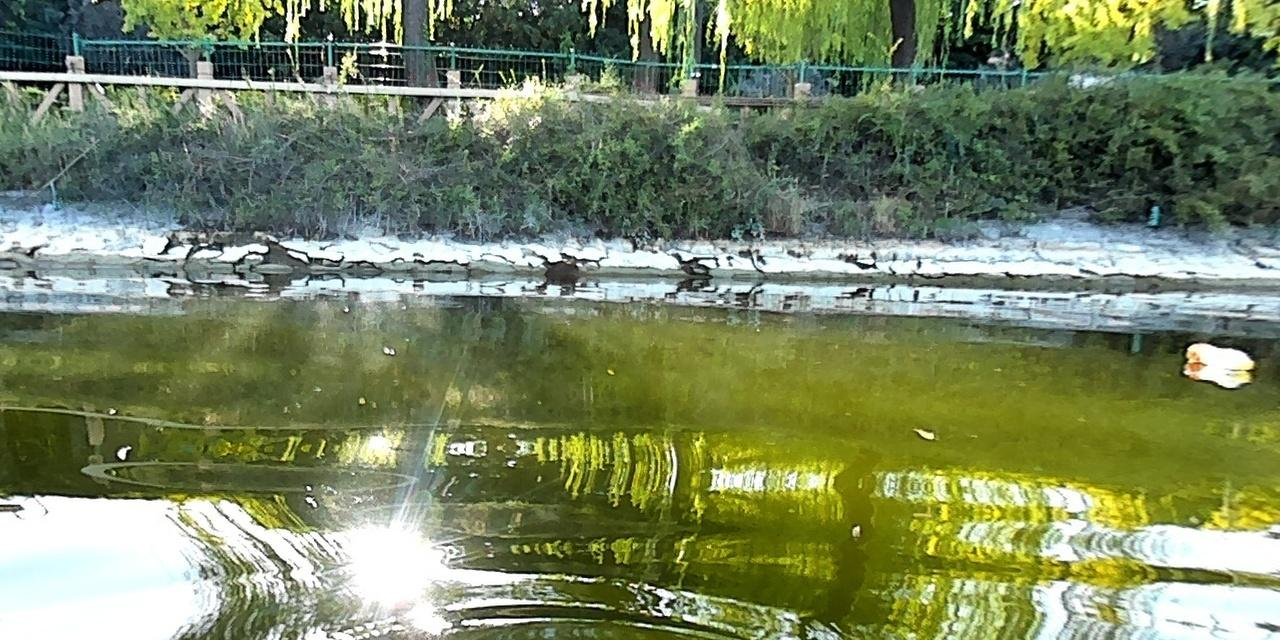bottle: (1183, 339, 1257, 373)
